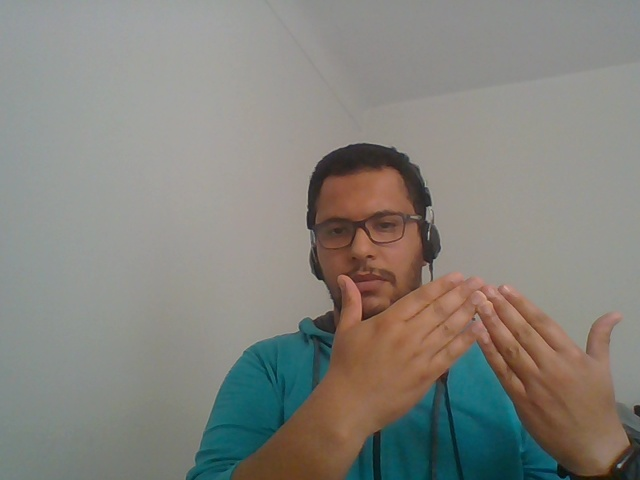thanks: (266, 261, 640, 480)
